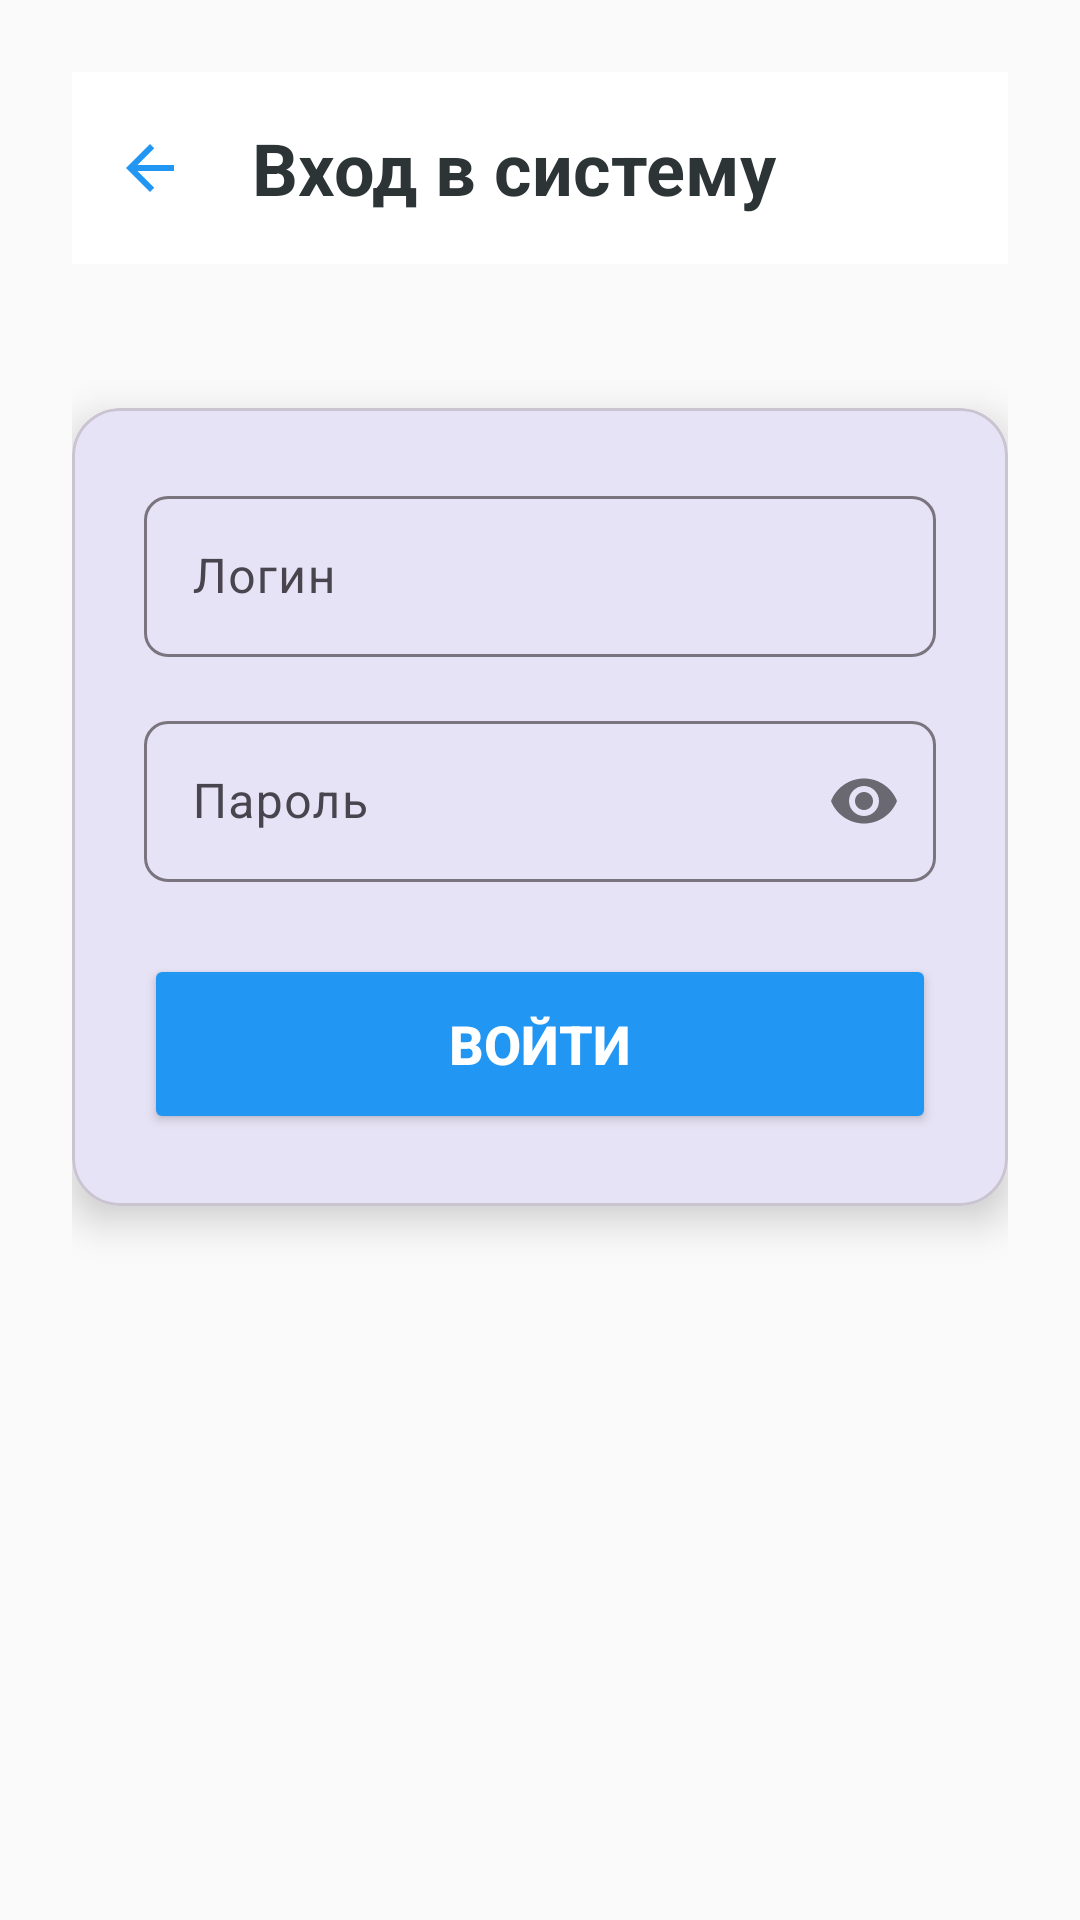

Point at icon controls on the screen. Image size 1080px x 1920px, points as point (x, y).
arrow back: point (150, 168)
